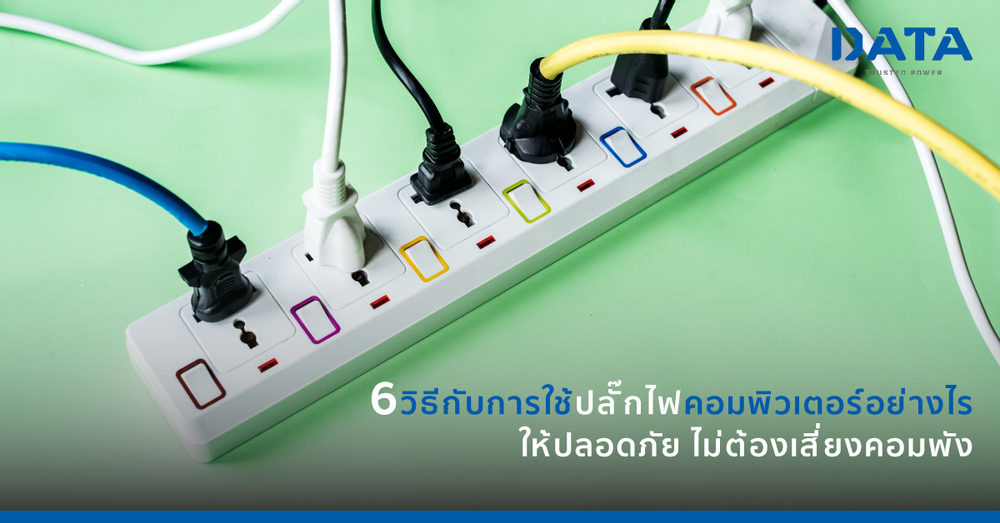Three_eye_plug: (121, 1, 872, 474)
